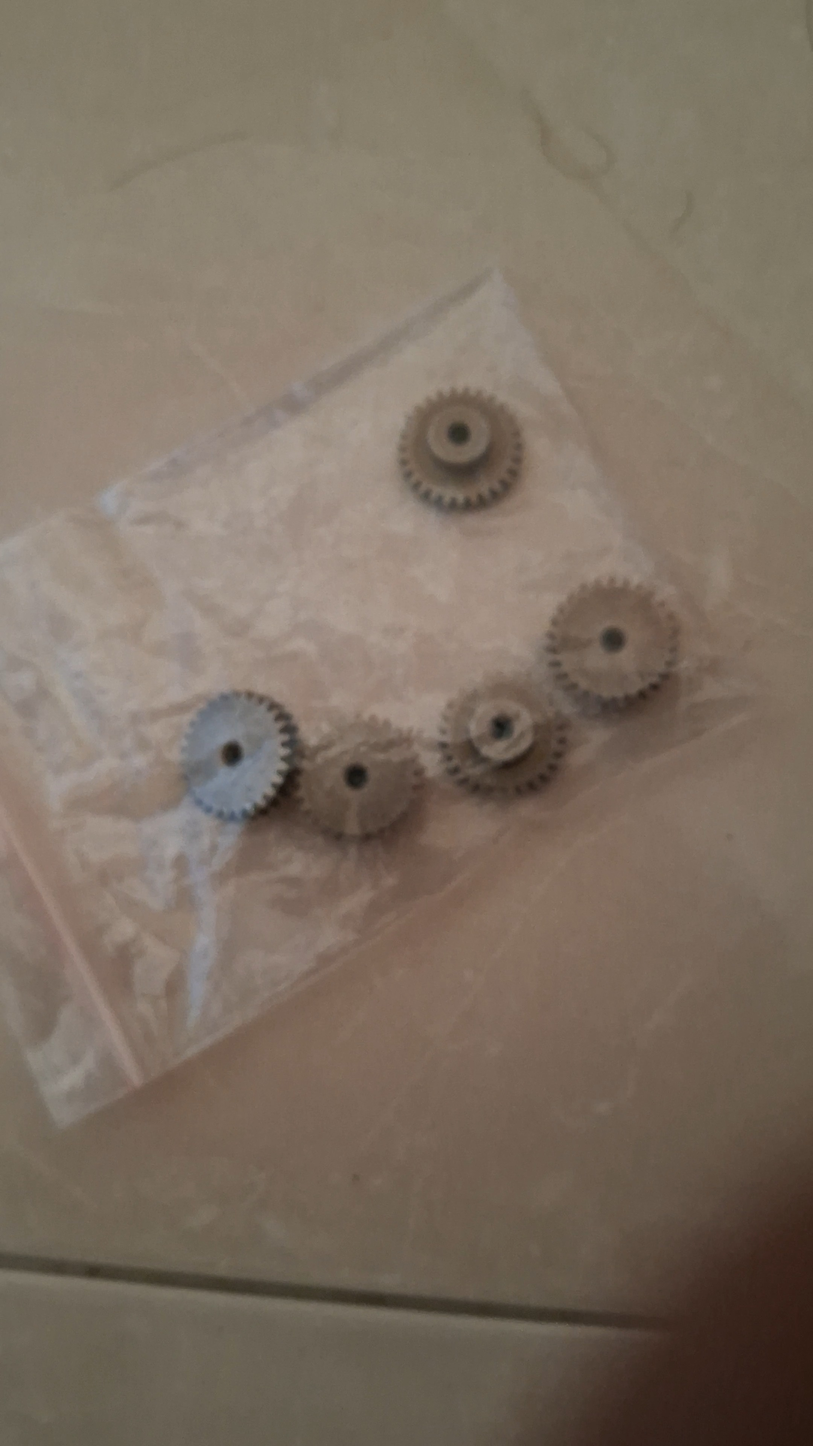spur gear: (546, 580, 679, 706), (298, 718, 422, 838), (440, 676, 566, 794), (182, 692, 297, 821), (398, 390, 522, 509)
